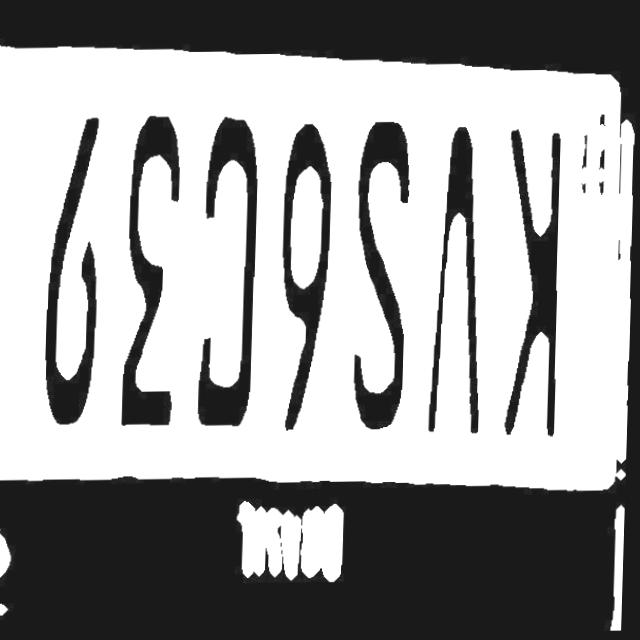3: (118, 104, 197, 438)
6: (266, 122, 348, 446)
9: (36, 110, 118, 440)
c: (196, 107, 272, 436)
k: (494, 120, 583, 445)
s: (343, 129, 426, 448)
v: (426, 119, 497, 451)
